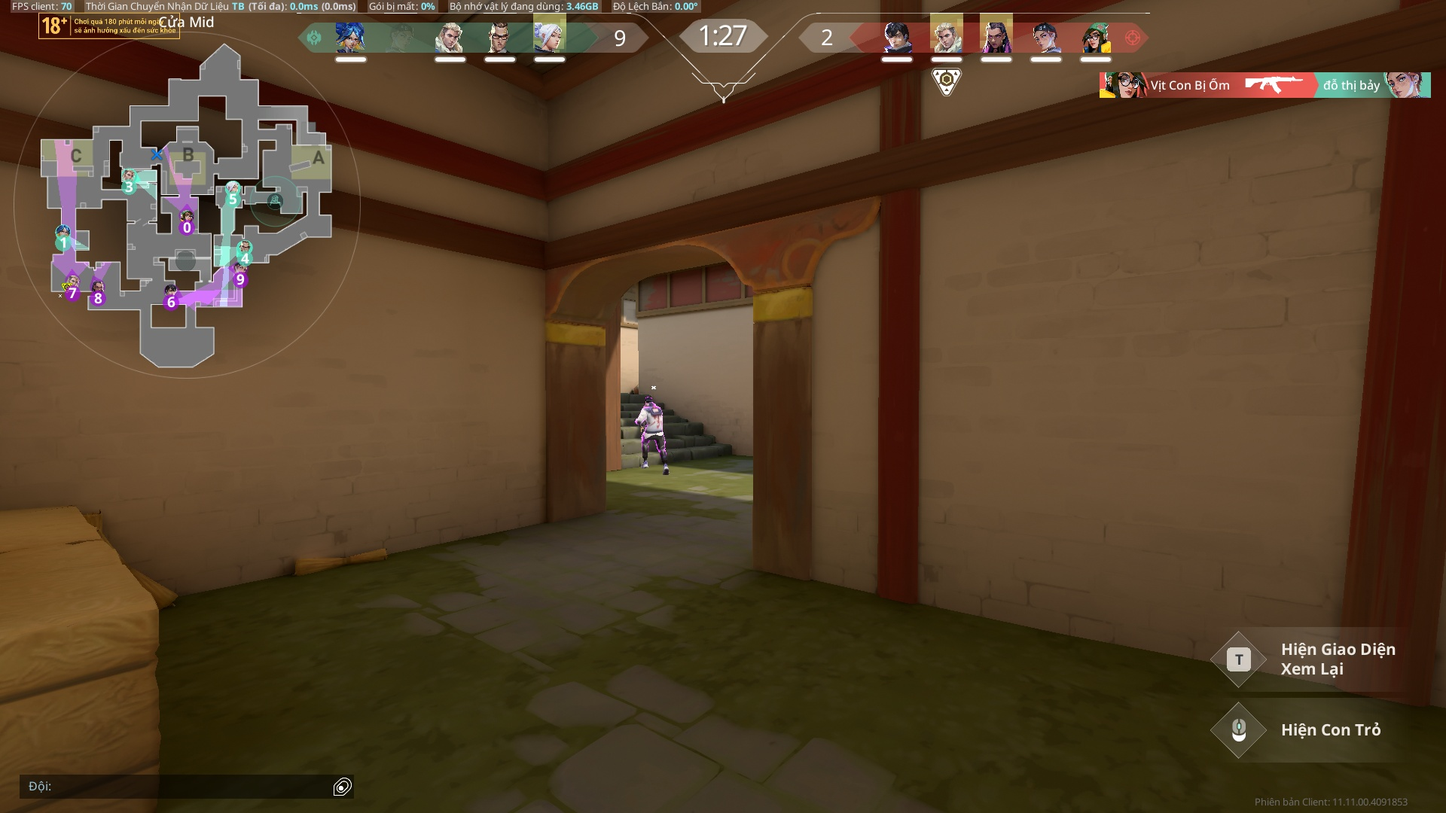body: (640, 403, 664, 428)
head: (643, 396, 654, 405)
